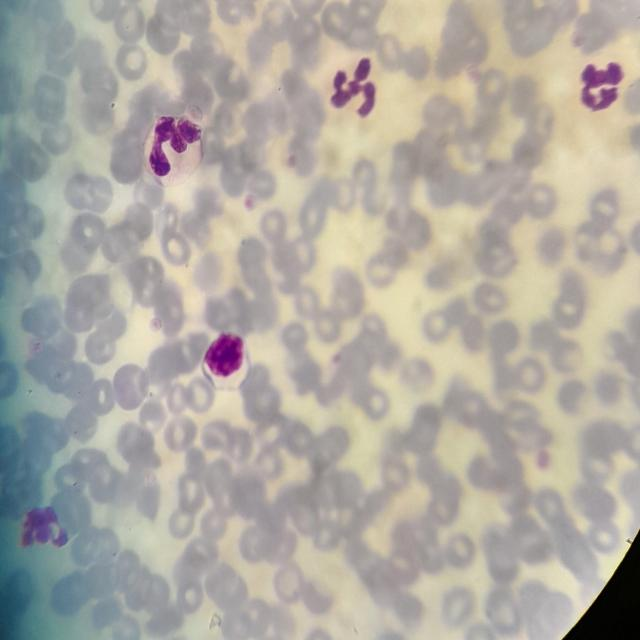Neutrofilo: (144, 114, 206, 188), (200, 328, 253, 389)
